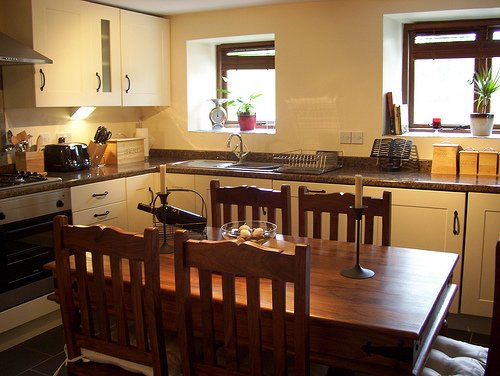chair: (174, 233, 312, 376), (54, 223, 162, 374), (2, 174, 74, 374), (417, 243, 500, 376), (300, 176, 392, 244), (210, 183, 292, 232), (298, 190, 363, 241), (488, 237, 500, 376), (362, 194, 392, 245)
dining table: (200, 229, 458, 332)
potted plant: (468, 70, 500, 135), (208, 93, 264, 130), (224, 93, 264, 131), (236, 94, 258, 132)
